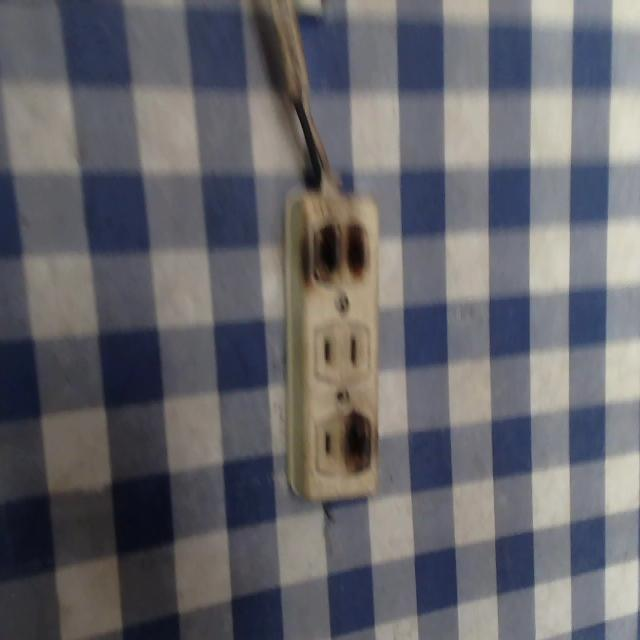-: (303, 214, 371, 278), (338, 407, 376, 477)
